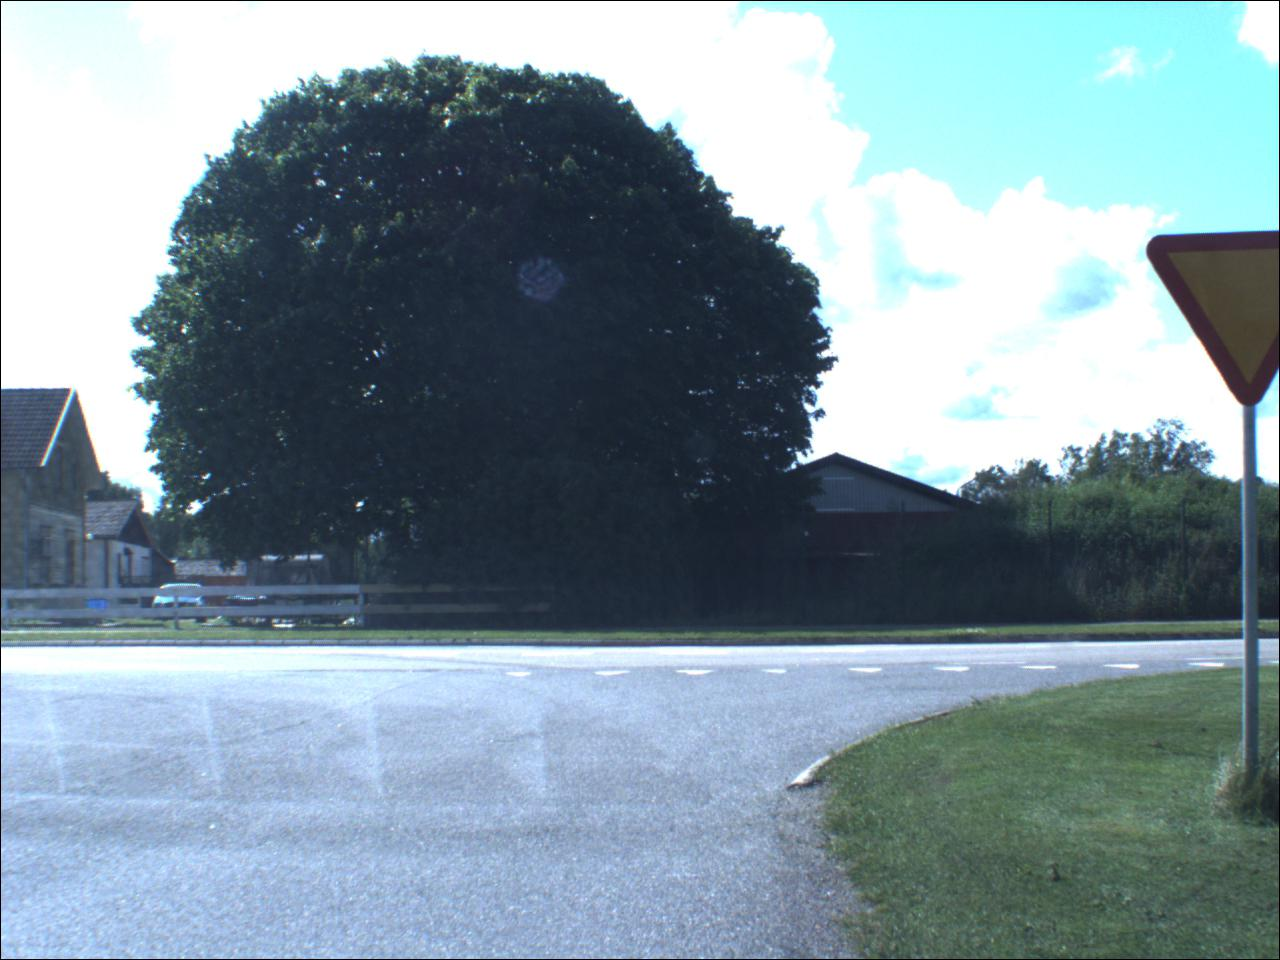GIVE_WAY: (1150, 236, 1280, 410)
